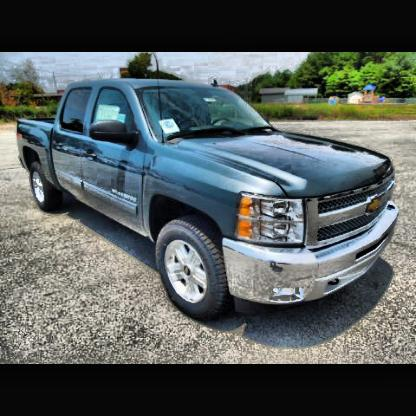Chevrolet Silverado 1500 Hybrid Crew Cab 2012: (14, 77, 404, 324)
